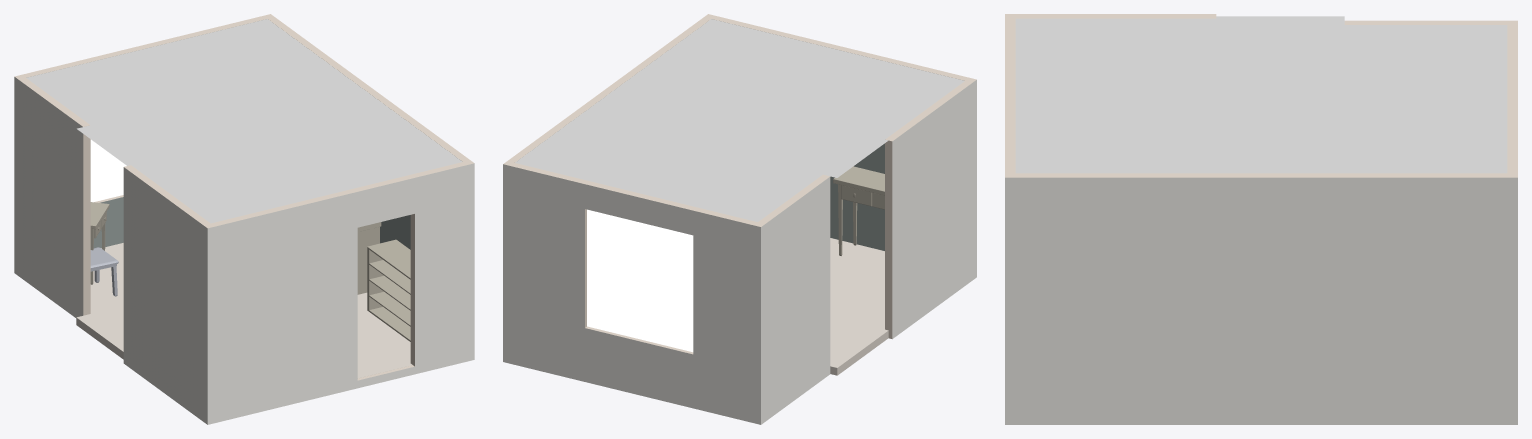
Rendered from 2026-11-06_scan6.glb.
The picture shows the model from 3 angles, left to right: view 1: azimuth 30°, elevation 25°; view 2: azimuth 150°, elevation 25°; view 3: azimuth 270°, elevation 25°; orthographic projection. The views are drawn at different scales.
Parts seen in each view (by area): view 1: Wall_0, Ceiling_Room_1, Ceiling_Room_0, Wall_2, Wall_3, Floor_Room, storage_shelf_1, Wall_1, Wall_4, Window_0, storage_cabinet_mid2_0, table_other_rect_0 (+1 smaller); view 2: Wall_4, Ceiling_Room_1, Ceiling_Room_0, Wall_2, Wall_3, Window_0, Floor_Room, Wall_0, table_other_rect_1, Wall_1; view 3: Wall_1, Ceiling_Room_1, Ceiling_Room_0, Wall_0, Wall_4, Wall_2, Wall_3.
Part boxes in pixels (box(x1,y1,x2,y2)): Wall_0: box(207, 162, 474, 424); Ceiling_Room_1: box(26, 19, 382, 165); Ceiling_Room_0: box(131, 103, 462, 223); Wall_2: box(123, 165, 210, 424); Wall_3: box(14, 76, 90, 317); Floor_Room: box(76, 243, 412, 378); storage_shelf_1: box(367, 239, 410, 341); Wall_1: box(268, 14, 474, 249); Wall_4: box(15, 14, 270, 248); Window_0: box(90, 139, 126, 202); storage_cabinet_mid2_0: box(357, 227, 379, 294); table_other_rect_0: box(90, 202, 109, 284); Wall_4: box(503, 163, 760, 424); Ceiling_Room_1: box(515, 78, 888, 221); Ceiling_Room_0: box(631, 19, 964, 139); Wall_2: box(885, 79, 976, 339); Wall_3: box(758, 174, 830, 424); Window_0: box(587, 209, 693, 352); Floor_Room: box(830, 238, 888, 375); Wall_0: box(708, 14, 976, 250); table_other_rect_1: box(833, 166, 884, 255); Wall_1: box(503, 14, 710, 164); Wall_1: box(1005, 173, 1517, 424); Ceiling_Room_1: box(1216, 16, 1507, 173); Ceiling_Room_0: box(1015, 18, 1216, 173); Wall_0: box(1005, 14, 1015, 177); Wall_4: box(1507, 20, 1517, 177); Wall_2: box(1005, 14, 1216, 18); Wall_3: box(1344, 20, 1516, 24).
Size of the model in its own units: 3.63 by 2.55 by 4.8.
Materials: 9 (1 with a texture image).
